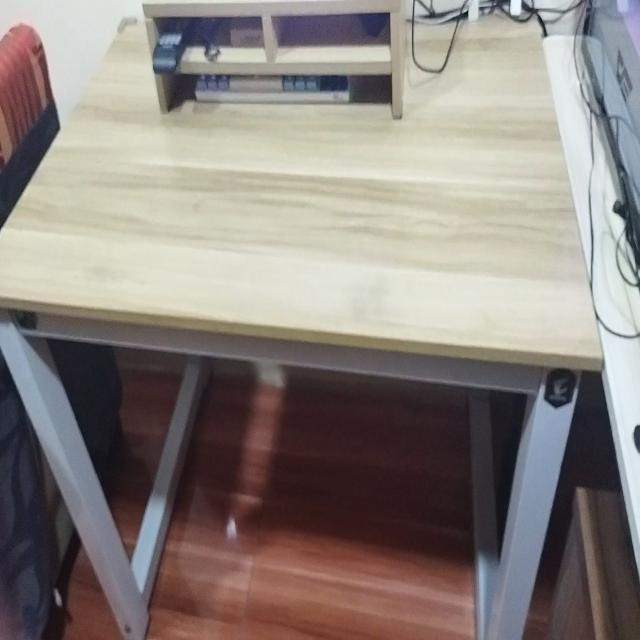table: (0, 6, 605, 640)
